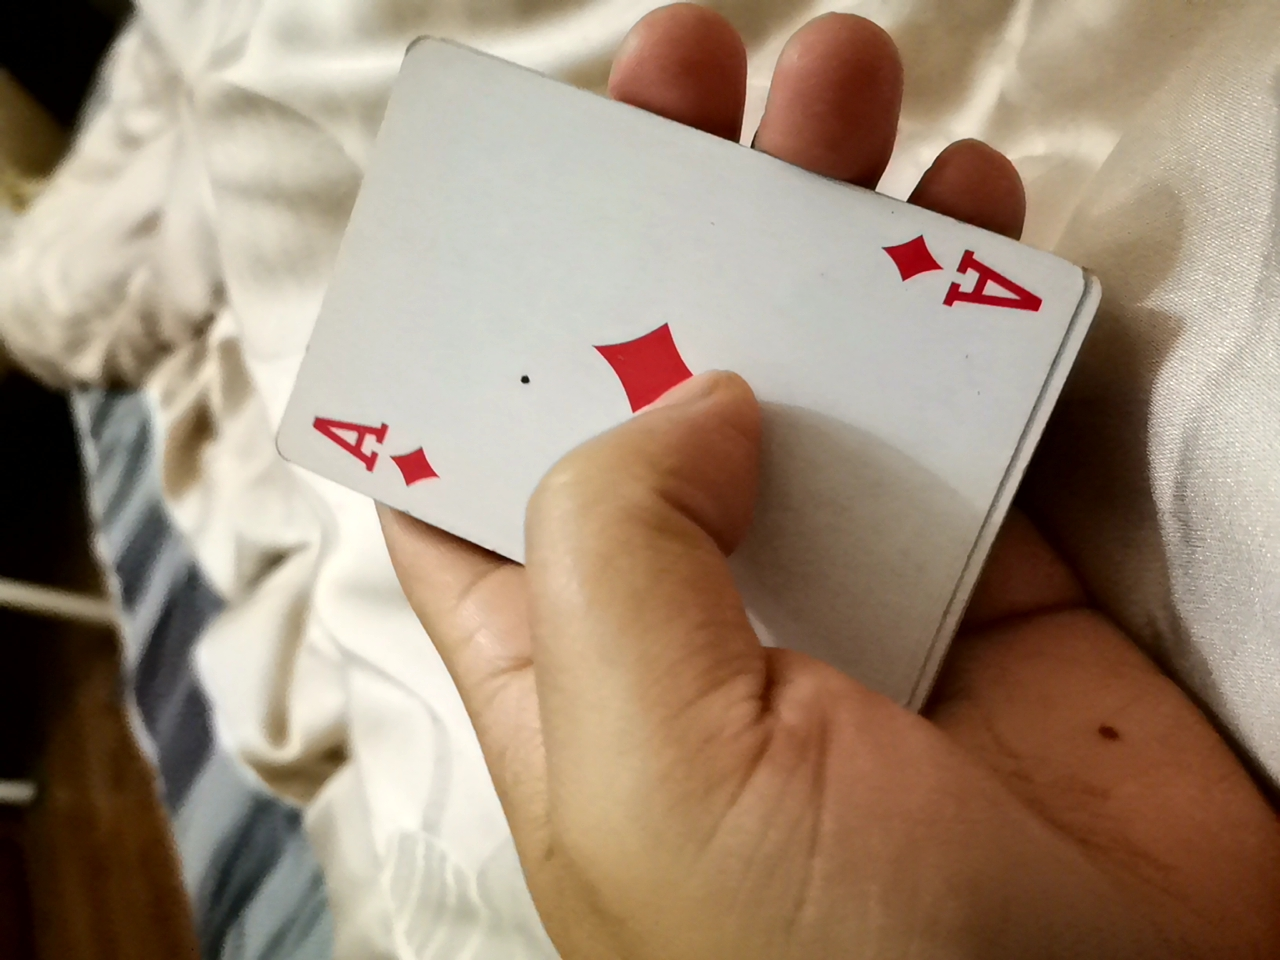fk a: (262, 18, 1110, 675)
